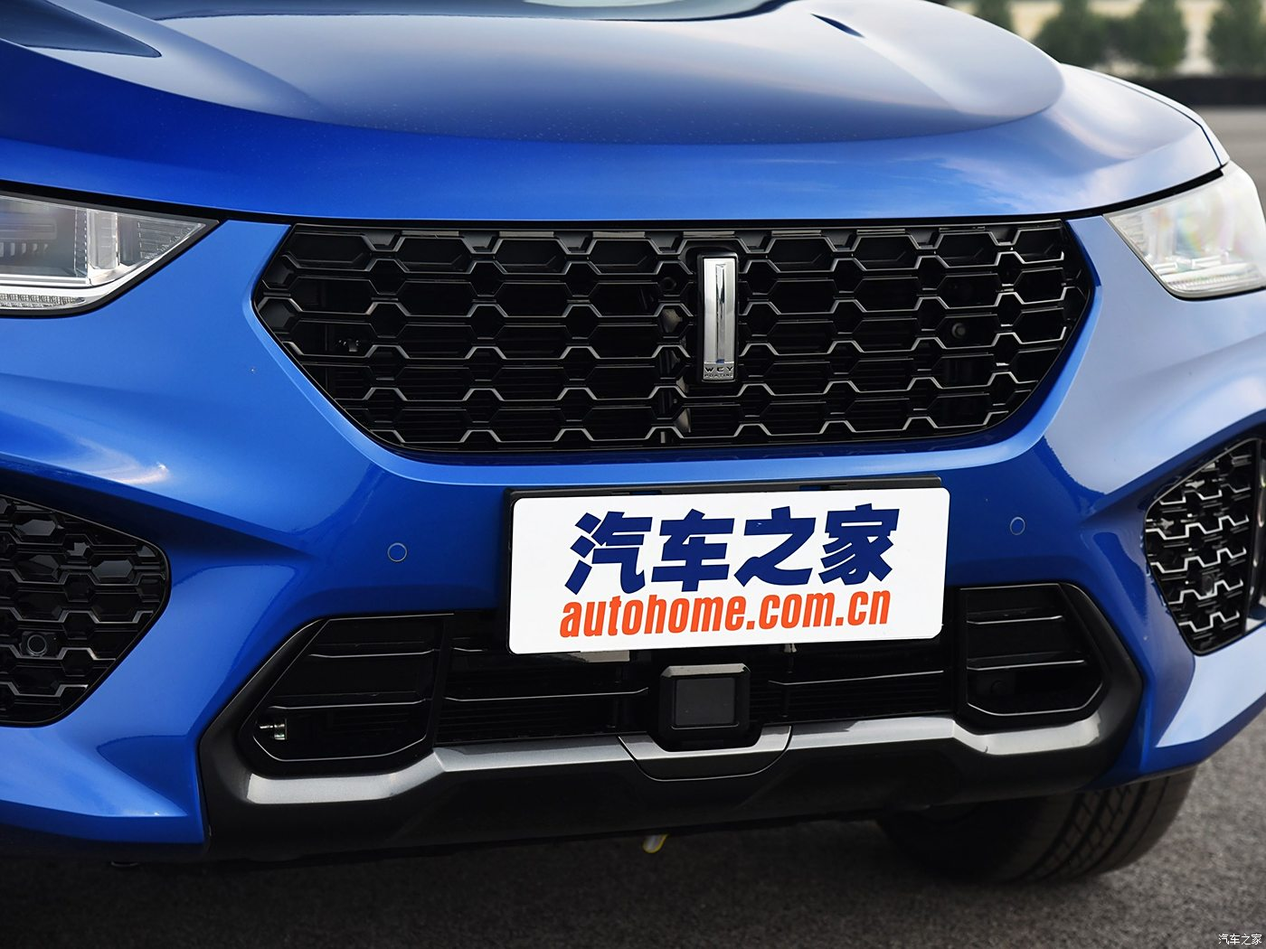WEY: (704, 258, 733, 379)
